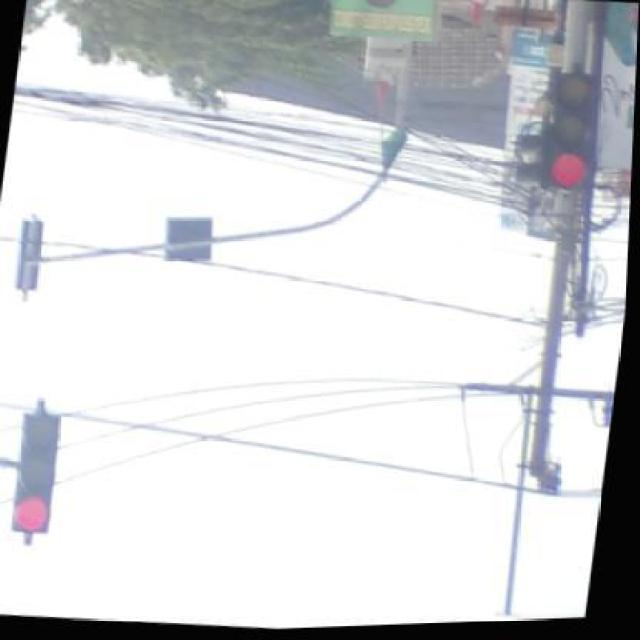Traffic Light -Red-: (6, 403, 68, 546), (546, 70, 602, 198)
